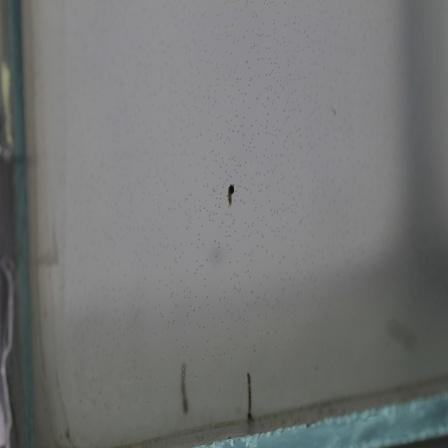Jentik-Nyamuk: (240, 369, 257, 423), (226, 182, 238, 206)
